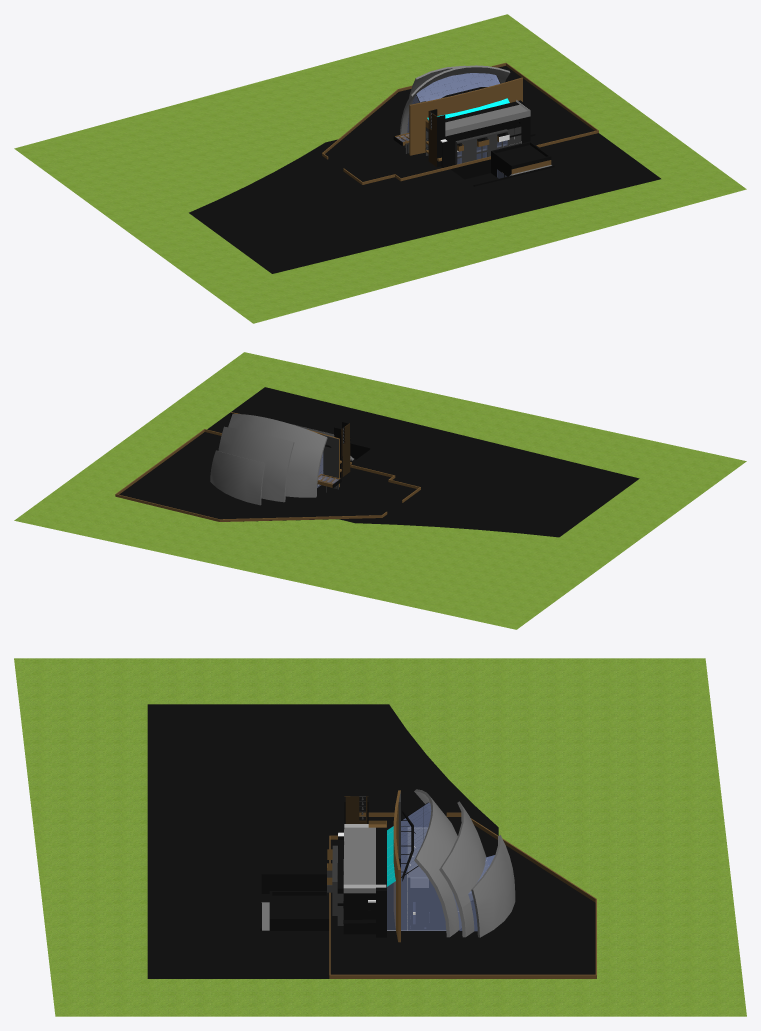
File: houseVR.obj
3 views of the same model, one above another, from view 1: azimuth 30°, elevation 25°; view 2: azimuth 150°, elevation 25°; view 3: azimuth 270°, elevation 25° (orthographic). The views are drawn at different scales.
Visible parts, largest first — view 1: Mesh385, Mesh34, Mesh217, Mesh384, Mesh274, Mesh142, Mesh10, Mesh389, Mesh276; view 2: Mesh385, Mesh217, Mesh18, Mesh3, Mesh384, Mesh11; view 3: Mesh385, Mesh18, Mesh217, Mesh3, Mesh384, Mesh142, Mesh16, Mesh389, Mesh274, Mesh10, Mesh365, Mesh34 (+1 smaller).
Part boxes in pixels (x1,y1,x2,y2): Mesh385: (14, 14, 746, 323); Mesh34: (409, 77, 522, 155); Mesh217: (400, 65, 510, 140); Mesh384: (322, 63, 598, 184); Mesh274: (445, 116, 530, 166); Mesh142: (491, 141, 551, 177); Mesh10: (416, 73, 499, 102); Mesh389: (445, 104, 530, 136); Mesh276: (455, 129, 508, 164); Mesh385: (14, 352, 746, 629); Mesh217: (228, 414, 327, 497); Mesh18: (218, 426, 294, 502); Mesh3: (210, 450, 265, 505); Mesh384: (115, 429, 420, 521); Mesh11: (323, 435, 338, 486); Mesh385: (14, 658, 746, 1016); Mesh18: (439, 801, 488, 937); Mesh217: (414, 789, 470, 937); Mesh3: (471, 835, 515, 937); Mesh384: (329, 812, 596, 978); Mesh142: (261, 891, 329, 930); Mesh16: (401, 866, 446, 930); Mesh389: (343, 827, 375, 893); Mesh274: (337, 836, 375, 934); Mesh10: (401, 802, 431, 876); Mesh365: (376, 827, 386, 937); Mesh34: (393, 790, 400, 942).
Bounding box in the file's own units: 3129 × 464 × 2707.
15 materials, 1 textured.
